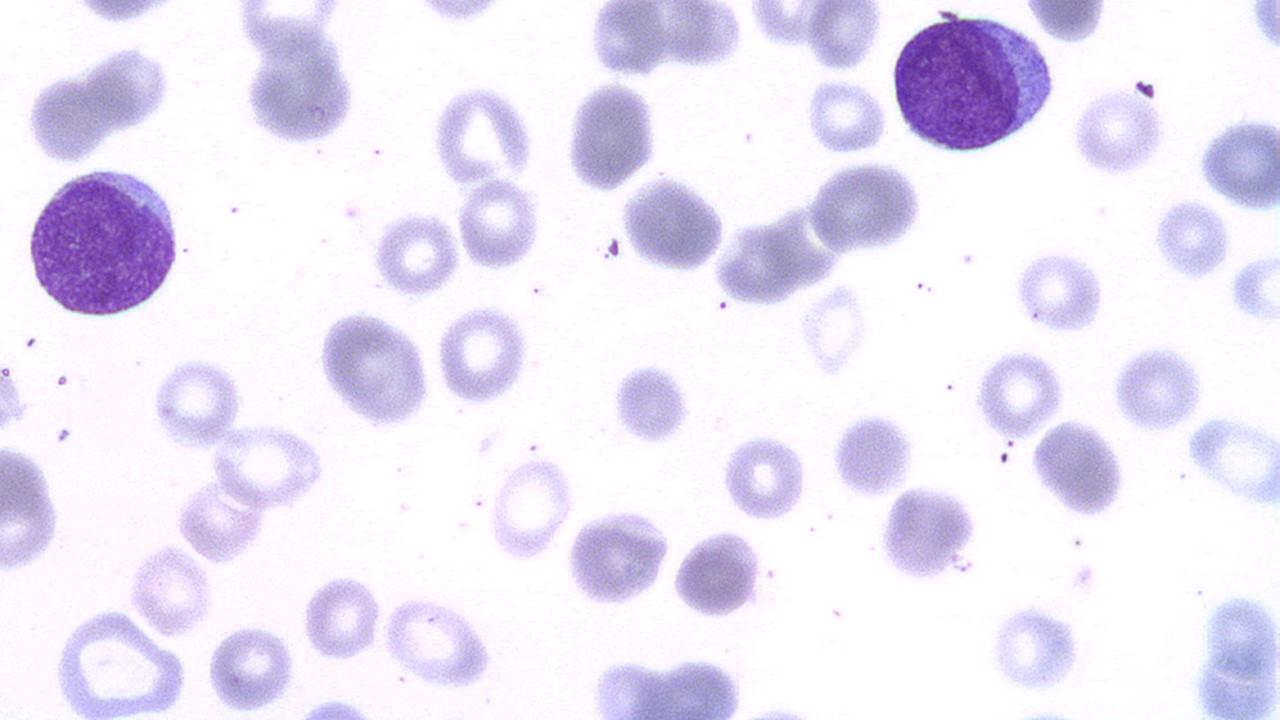Platelets: (1064, 556, 1102, 598), (1014, 704, 1079, 720), (944, 552, 980, 578), (338, 200, 364, 223), (605, 233, 623, 262), (932, 7, 962, 22), (55, 427, 69, 444)
RBC: (233, 6, 370, 156), (46, 610, 195, 716), (318, 300, 438, 430), (379, 590, 501, 694), (427, 78, 538, 190), (804, 158, 924, 257), (562, 504, 674, 610), (562, 77, 662, 194), (875, 479, 983, 587), (619, 170, 730, 275), (1027, 416, 1133, 523), (209, 418, 326, 514), (982, 597, 1088, 700), (434, 301, 533, 408), (78, 41, 178, 144), (485, 452, 576, 564), (1195, 588, 1279, 708), (1183, 412, 1279, 512), (1014, 240, 1112, 337), (1067, 87, 1167, 182), (1, 437, 67, 580), (670, 524, 767, 621), (1110, 340, 1208, 435), (148, 355, 244, 450), (127, 540, 217, 640), (22, 67, 110, 168), (204, 622, 300, 714), (173, 474, 268, 566), (720, 430, 812, 524), (1196, 110, 1280, 212), (973, 347, 1065, 440), (456, 176, 541, 274), (830, 408, 920, 500), (368, 210, 458, 299), (298, 572, 384, 665), (797, 278, 873, 382), (609, 357, 692, 451), (1149, 196, 1233, 283), (807, 77, 895, 156), (587, 1, 673, 78), (804, 1, 886, 73), (1010, 1, 1117, 43), (1228, 252, 1280, 328), (65, 1, 180, 28), (410, 1, 507, 27), (0, 366, 32, 434), (1244, 2, 1280, 62), (294, 692, 372, 718)
WBC: (19, 161, 186, 322), (884, 6, 1059, 159)
